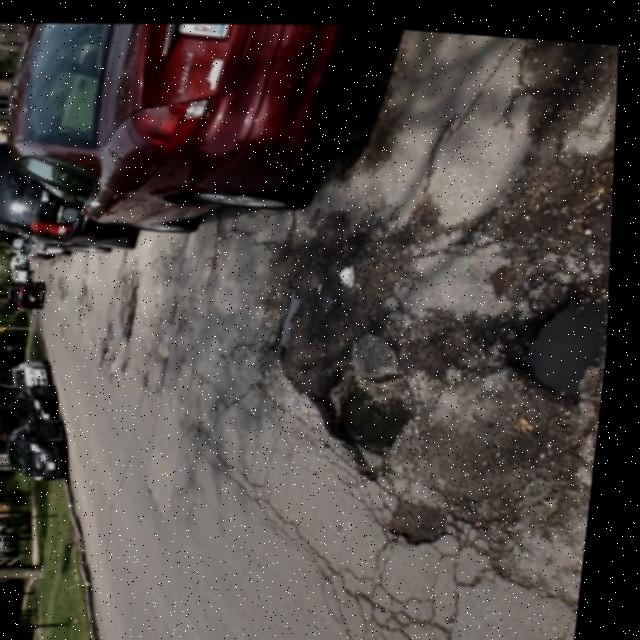Pothole: (202, 211, 623, 573), (114, 269, 178, 349)
